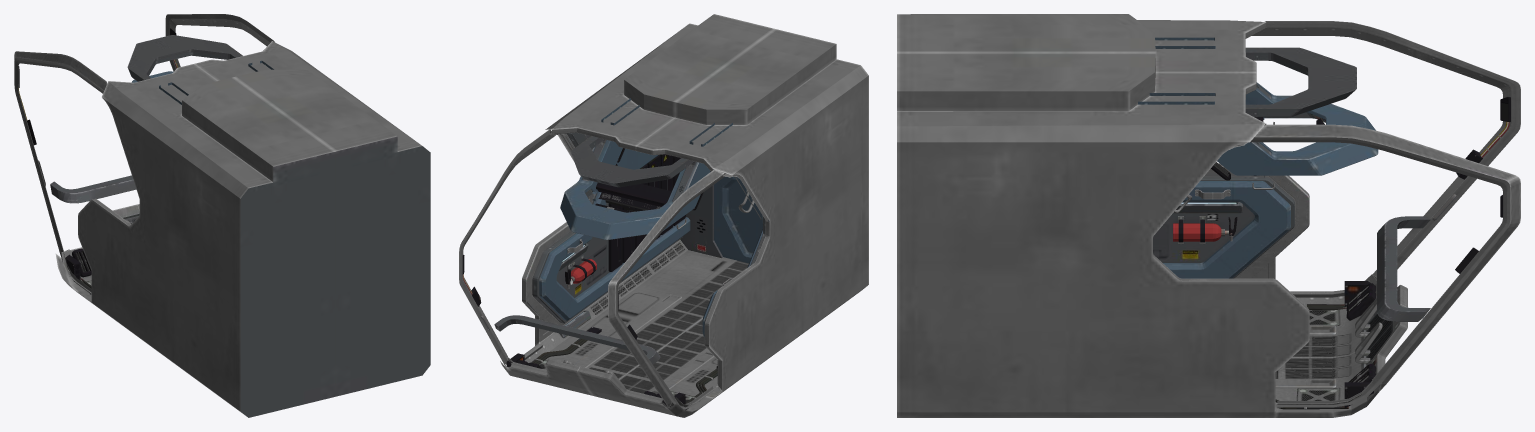
Rendered from cockpit.glb.
The picture shows the model from 3 angles, left to right: view 1: azimuth 30°, elevation 25°; view 2: azimuth 150°, elevation 25°; view 3: azimuth 270°, elevation 25°; orthographic projection. The views are drawn at different scales.
Visible parts, largest first — view 1: VA_SciFi_Cockpit_4_VA_SciFiCockpit4_Material_0; view 2: VA_SciFi_Cockpit_4_VA_SciFiCockpit4_Material_0; view 3: VA_SciFi_Cockpit_4_VA_SciFiCockpit4_Material_0.
Boxes of the visible parts, bbox=[...] form: VA_SciFi_Cockpit_4_VA_SciFiCockpit4_Material_0: bbox=[14, 14, 430, 417]; VA_SciFi_Cockpit_4_VA_SciFiCockpit4_Material_0: bbox=[459, 14, 868, 417]; VA_SciFi_Cockpit_4_VA_SciFiCockpit4_Material_0: bbox=[897, 14, 1520, 417].
Size of the model in its own units: 1.9 by 2.35 by 4.26.
Materials: 1 (1 with a texture image).
